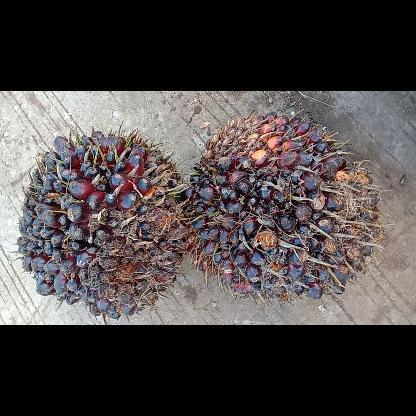TBS mentah: (188, 112, 382, 298), (16, 130, 188, 318)
